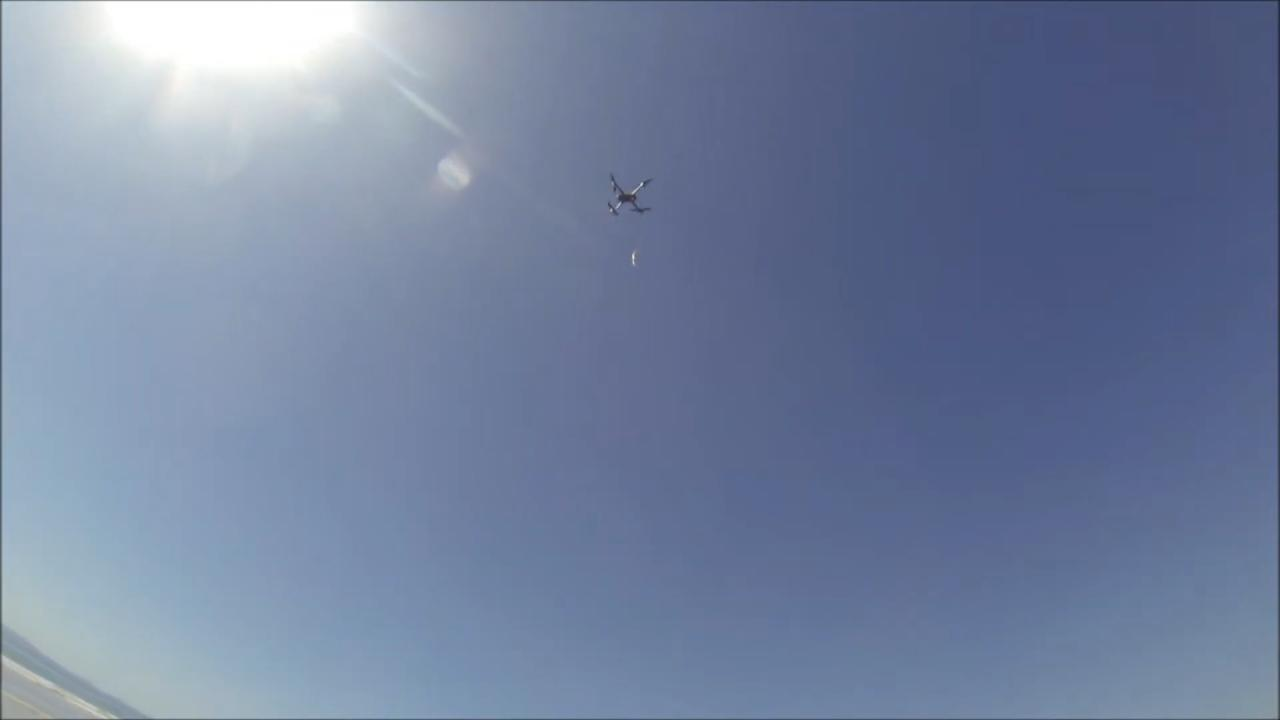Drone: (594, 166, 663, 231)
